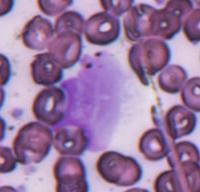D: (52, 52, 136, 152)
